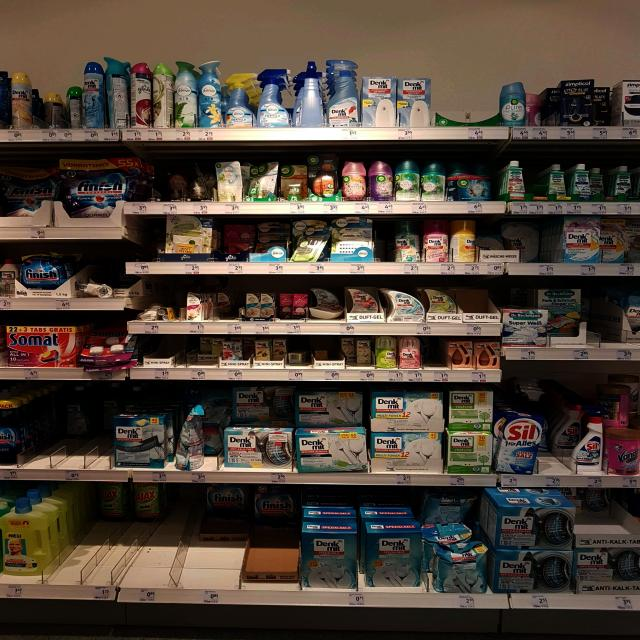empty_space: (45, 400, 103, 460), (140, 521, 176, 579), (79, 522, 113, 577), (198, 547, 233, 581), (461, 284, 493, 312)
